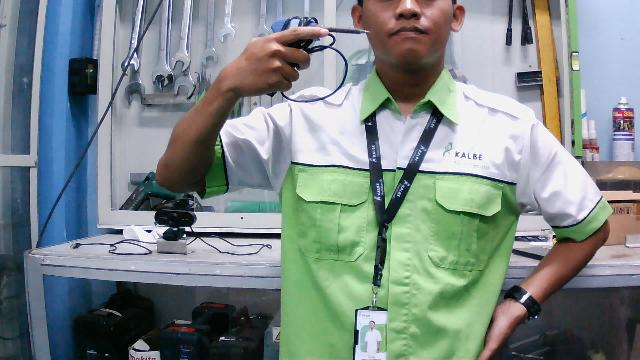solder_electrical: (261, 13, 371, 104)
